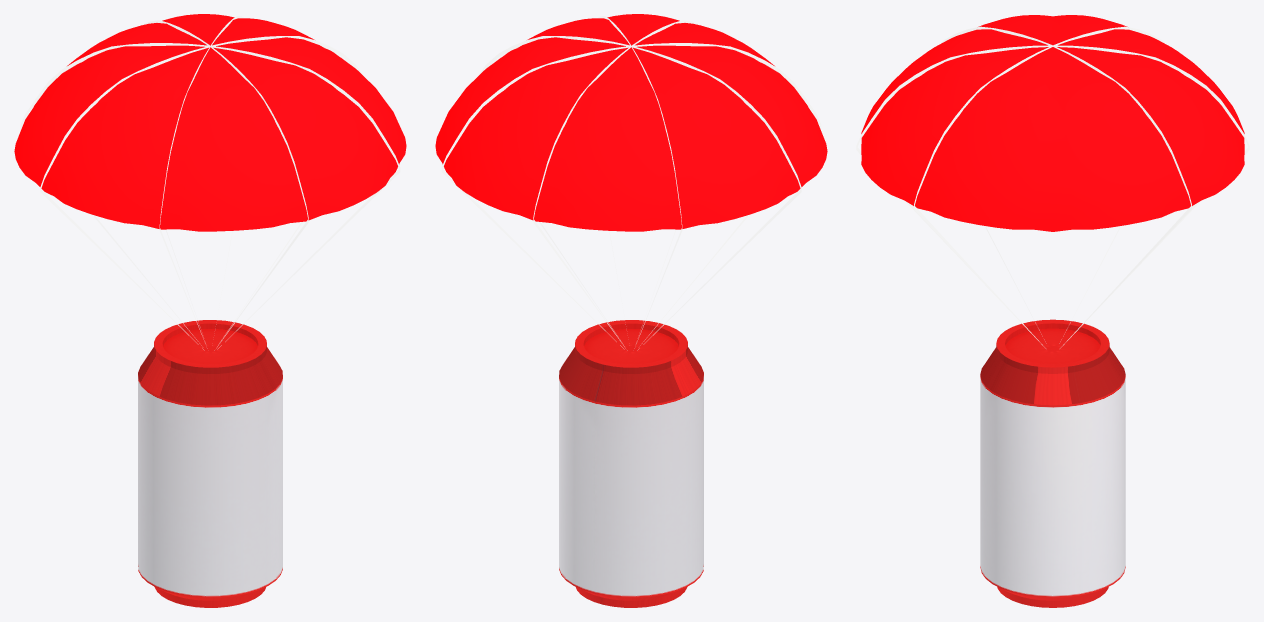
The model's file is can.glb.
3 renders of one model, left to right at view 1: azimuth 30°, elevation 25°; view 2: azimuth 150°, elevation 25°; view 3: azimuth 270°, elevation 25°, orthographic.
Parts seen in each view (by area): view 1: Cylinder.010; view 2: Cylinder.010; view 3: Cylinder.010.
Boxes of the visible parts, x1,y1,x2,y2 form: Cylinder.010: [14, 14, 406, 607]; Cylinder.010: [435, 14, 827, 607]; Cylinder.010: [856, 15, 1249, 607].
Bounding box in the file's own units: 1.4 × 2.11 × 1.4.
3 materials, 1 textured.
